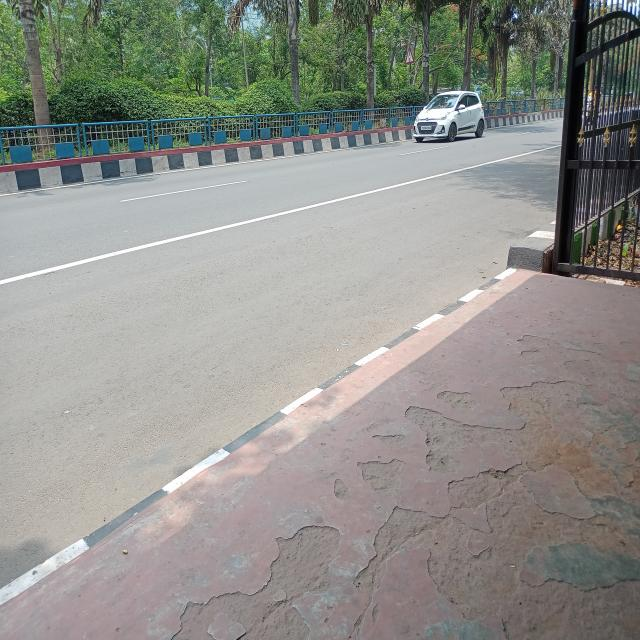car: (415, 90, 493, 146)
